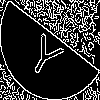Y: (25, 25, 70, 81)
